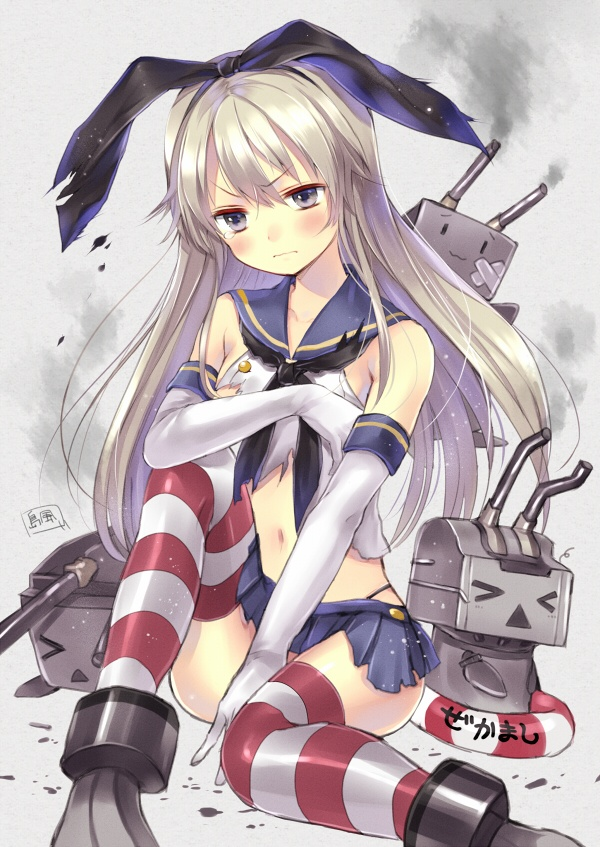纸片人正脸: (143, 36, 397, 286)
